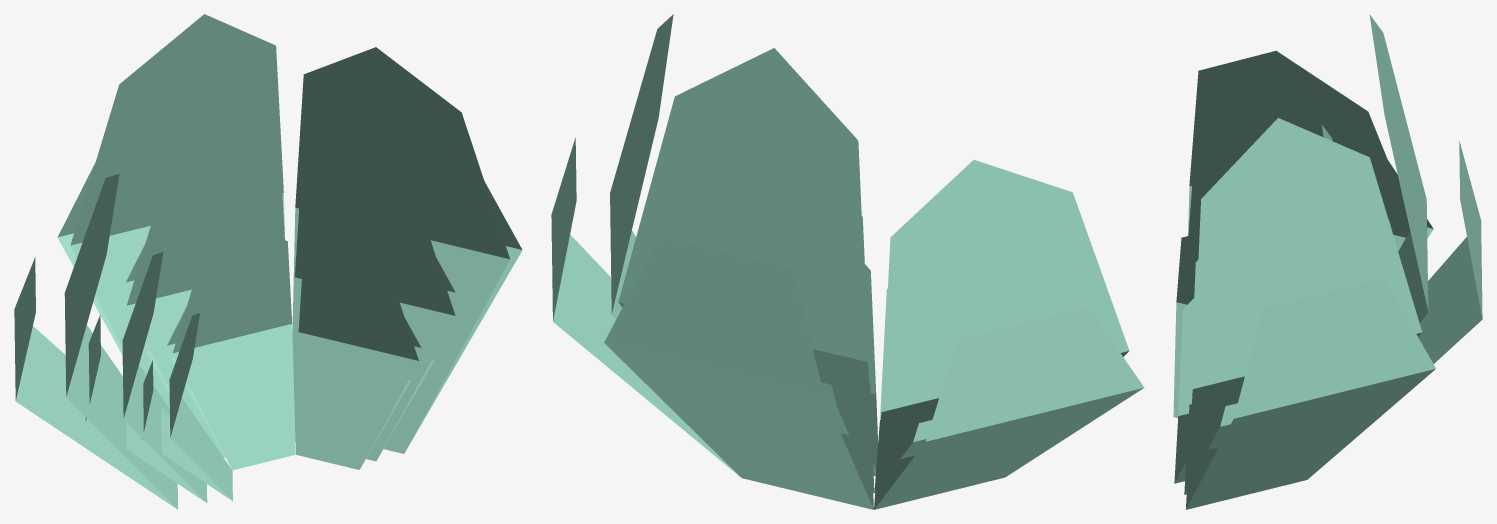
The model's file is cabbageChopped.dae.
3 views of the same model, side by side, from view 1: azimuth 30°, elevation 25°; view 2: azimuth 150°, elevation 25°; view 3: azimuth 270°, elevation 25° (orthographic). The views are drawn at different scales.
Parts seen in each view (by area): view 1: cabbage, cabbage.002, cabbage.001; view 2: cabbage, cabbage.001, cabbage.002; view 3: cabbage, cabbage.002, cabbage.001.
Boxes of the visible parts, box(x1,y1,x2,y2) form: cabbage: box(14, 14, 522, 509); cabbage.002: box(142, 223, 421, 500); cabbage.001: box(85, 132, 455, 502); cabbage: box(551, 14, 1144, 509); cabbage.001: box(821, 216, 932, 493); cabbage.002: box(865, 264, 878, 476); cabbage: box(1185, 14, 1482, 509); cabbage.002: box(1173, 233, 1199, 483); cabbage.001: box(1184, 124, 1393, 494).
Bounding box in the file's own units: 0.4036 × 0.1975 × 0.3074.
